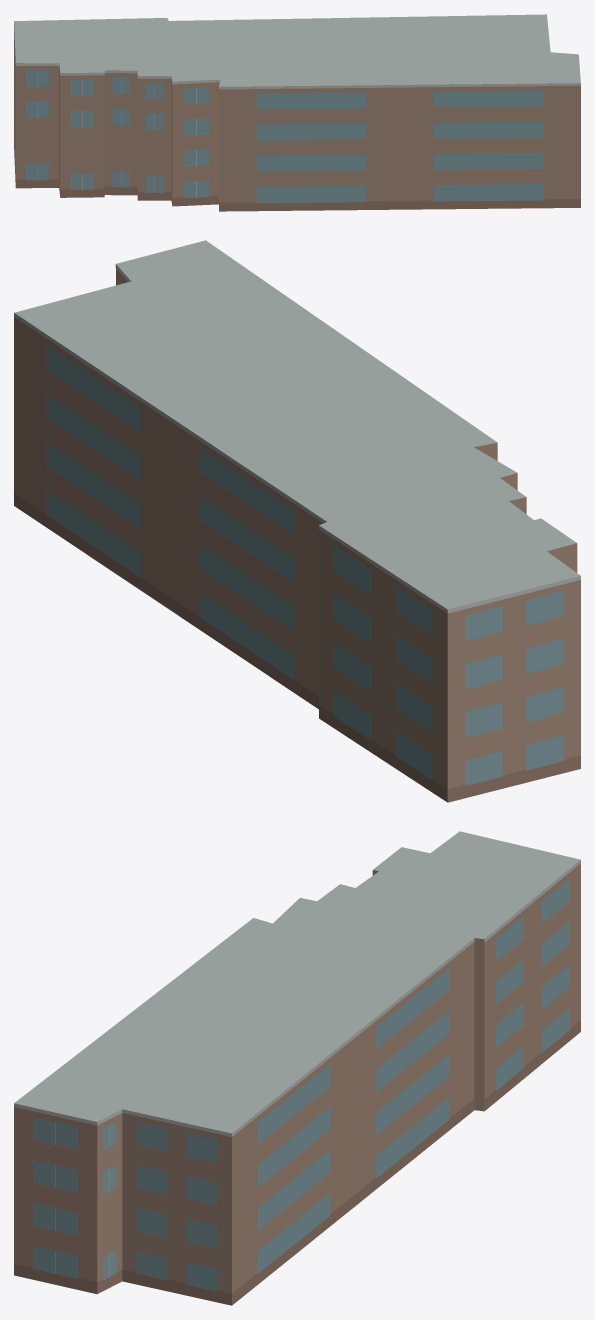
The model's file is survey-upis-32674958.glb.
3 renders of one model, top to bottom at view 1: azimuth 30°, elevation 25°; view 2: azimuth 150°, elevation 25°; view 3: azimuth 270°, elevation 25°, orthographic. The views are drawn at different scales.
Parts seen in each view (by area): view 1: survey-upis-32674958.tmp; view 2: survey-upis-32674958.tmp; view 3: survey-upis-32674958.tmp.
Part boxes in pixels (x1,y1,x2,y2): survey-upis-32674958.tmp: (14,14,580,211); survey-upis-32674958.tmp: (14,240,580,802); survey-upis-32674958.tmp: (14,831,580,1305).
Bounding box in the file's own units: 43.69 × 11.6 × 34.63.
